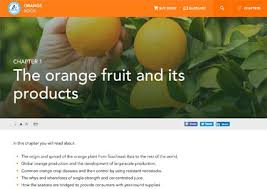orange: (62, 13, 125, 60)
